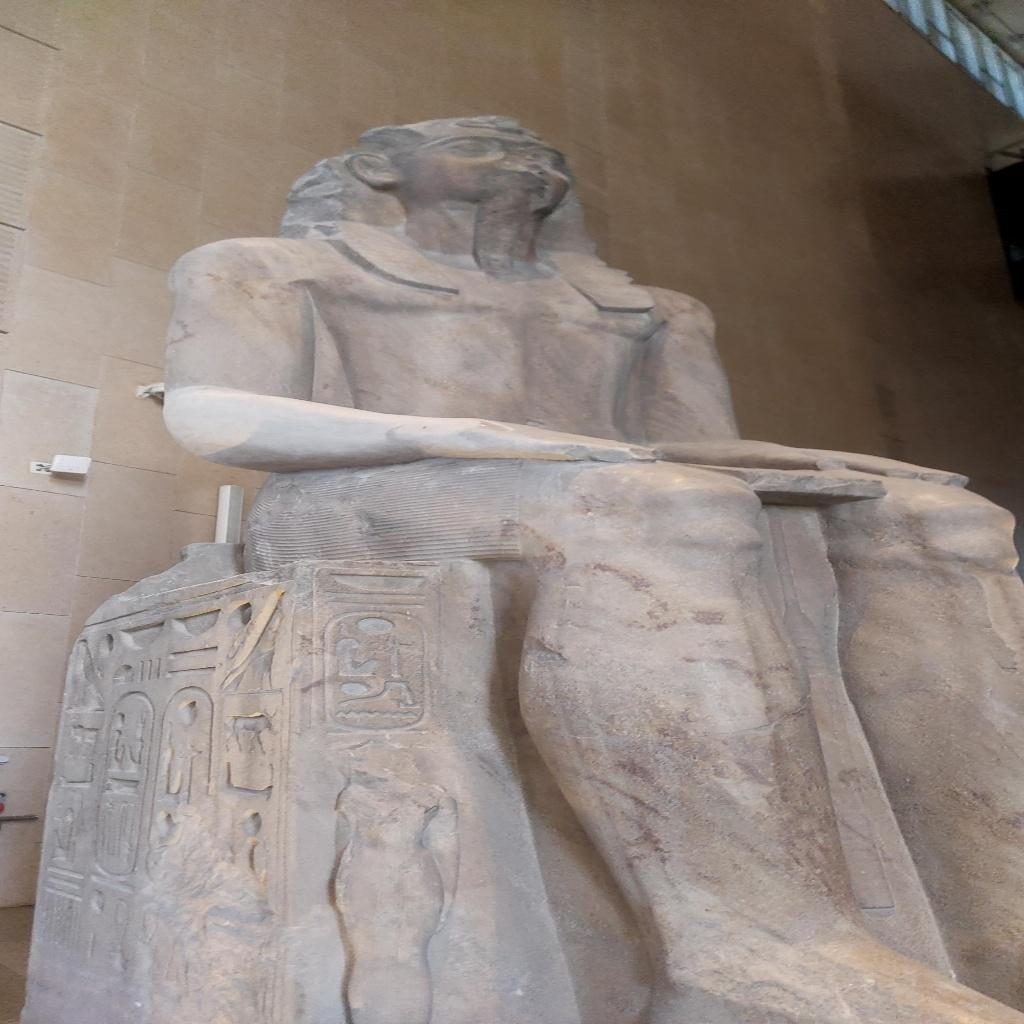Colossal Statue of Middle Kingdom King: (22, 112, 1015, 1020)
